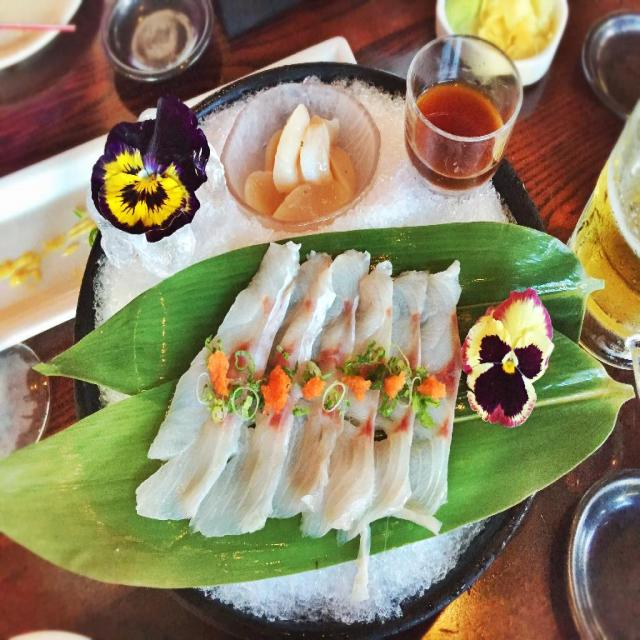Tea: (403, 81, 505, 196)
